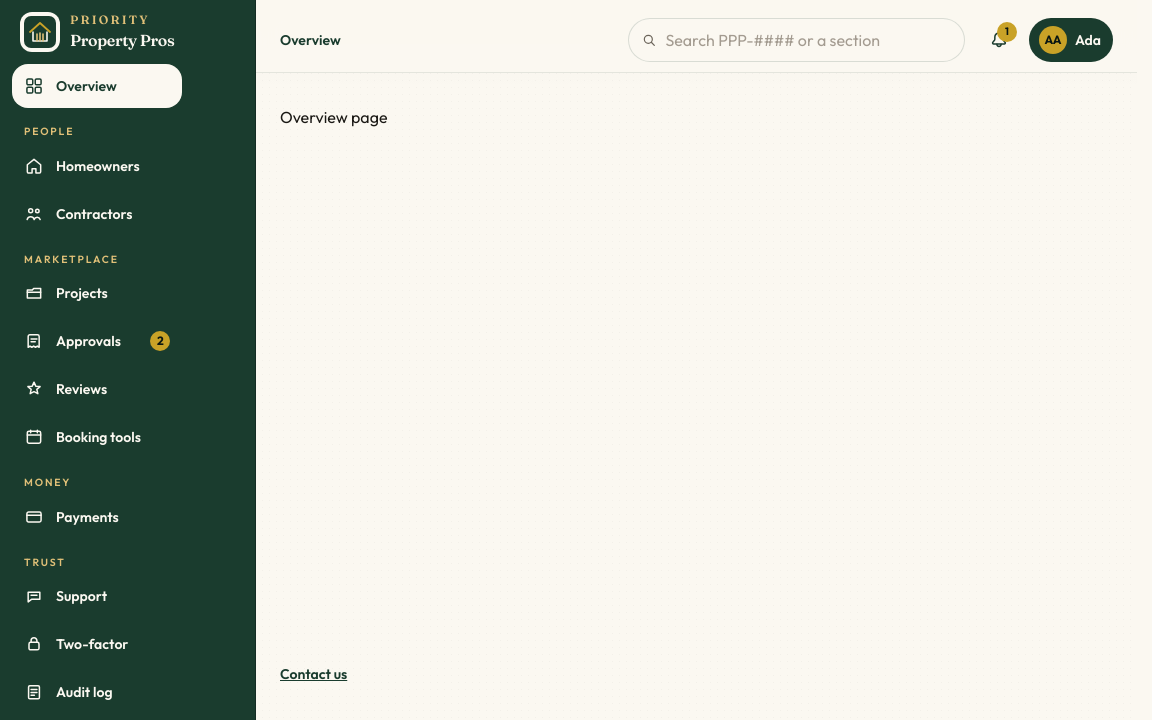
it: admin layout › jumps to a section from search with the keyboard
Type "approvals" into the dropdown named "Search jobs and admin sections" at (809, 40), box x1=666 y1=21 x2=952 y2=59
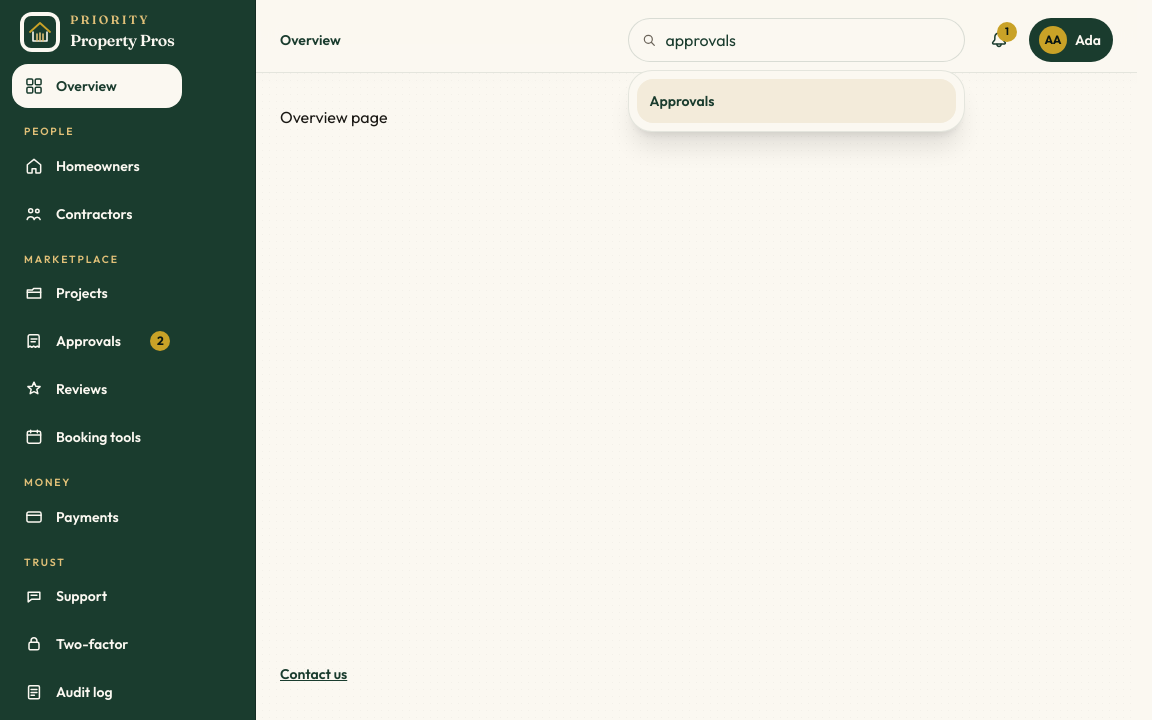
Expected: the option "Approvals" is shown, x1=638 y1=79 x2=956 y2=123
Press Enter
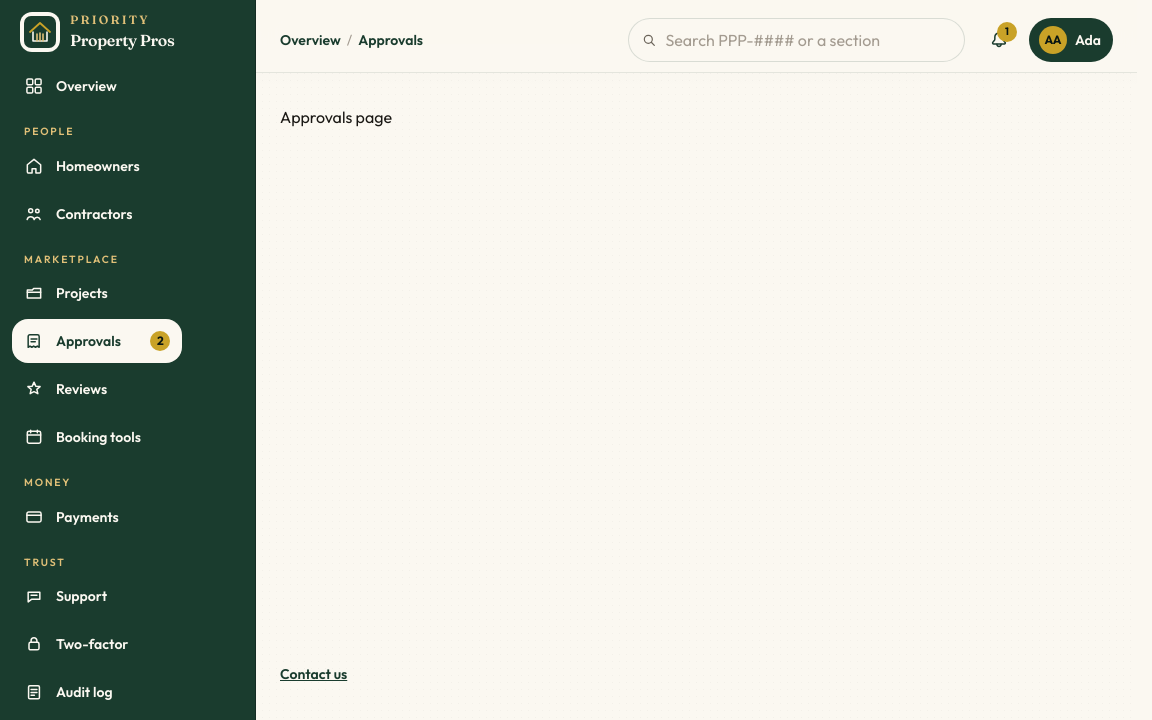
Expected: the heading "Approvals page" is shown, x1=280 y1=107 x2=392 y2=127
